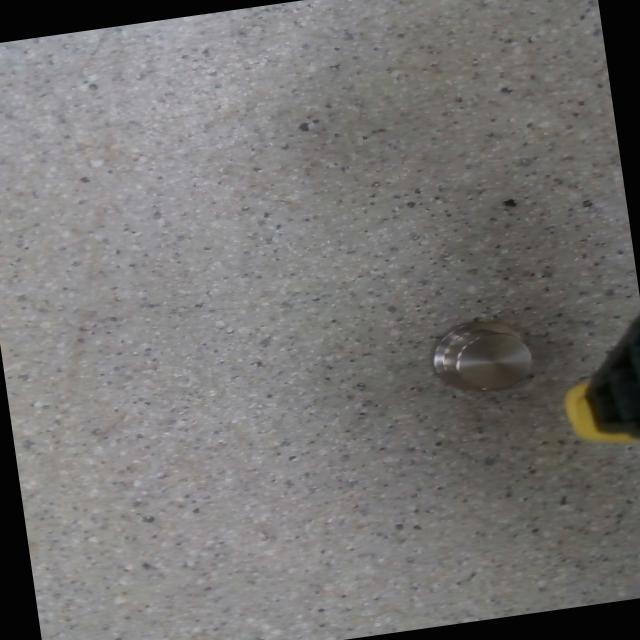sensor: (424, 310, 538, 402)
